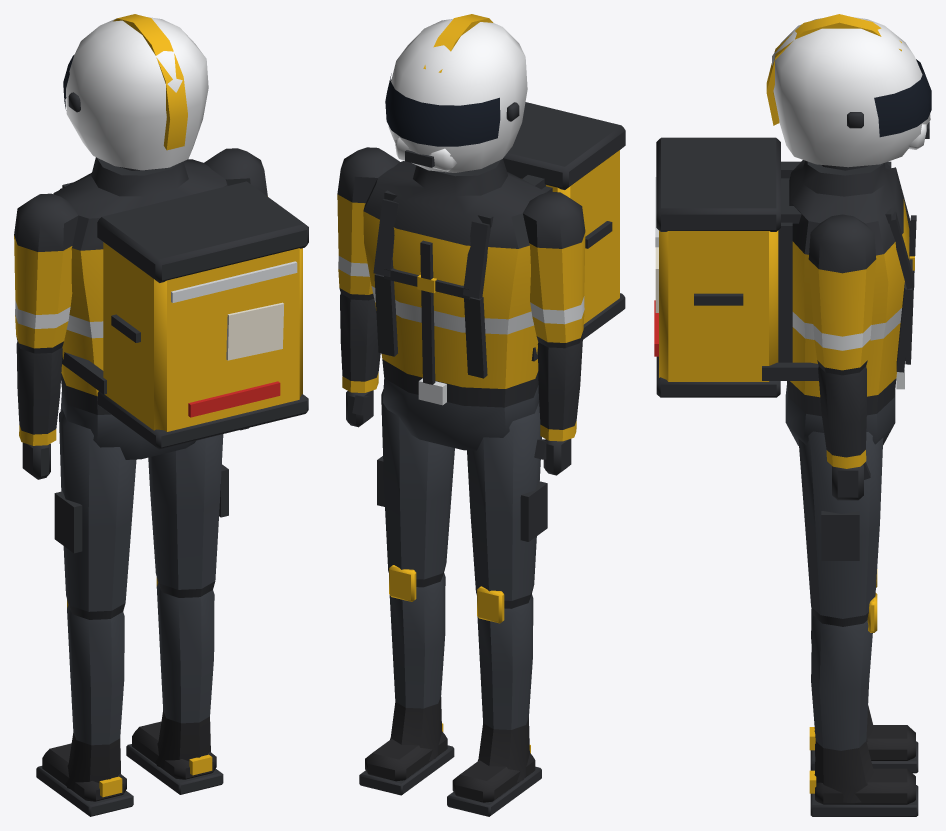
File: personagem.glb
3 renders of one model, left to right at view 1: azimuth 30°, elevation 25°; view 2: azimuth 150°, elevation 25°; view 3: azimuth 270°, elevation 25°, orthographic. The views are drawn at different scales.
Parts seen in each view (by area): view 1: Tronco, Cabeca, PernaE, CanelaD, CanelaE, PernaD, BracoE, AntebracoE, BracoD; view 2: Tronco, Cabeca, PernaE, CanelaD, CanelaE, PernaD, BracoE, BracoD, AntebracoE, AntebracoD; view 3: Tronco, Cabeca, CanelaD, PernaD, BracoD, AntebracoD, CanelaE.
Part boxes in pixels (box(x1,y1,x2,y2)): Tronco: box(53, 157, 308, 459); Cabeca: box(63, 14, 208, 170); PernaE: box(54, 409, 136, 619); CanelaD: box(126, 583, 223, 794); CanelaE: box(36, 605, 133, 816); PernaD: box(148, 434, 228, 597); BracoE: box(14, 193, 78, 353); AntebracoE: box(16, 341, 62, 479); BracoD: box(204, 148, 267, 196); Tronco: box(363, 102, 625, 450); Cabeca: box(385, 14, 527, 172); PernaE: box(467, 402, 547, 623); CanelaD: box(359, 573, 454, 795); CanelaE: box(447, 594, 541, 816); PernaD: box(377, 389, 454, 601); BracoE: box(523, 191, 585, 348); BracoD: box(337, 147, 399, 300); AntebracoE: box(534, 336, 582, 475); AntebracoD: box(340, 293, 380, 427); Tronco: box(654, 137, 916, 445); Cabeca: box(766, 14, 931, 170); CanelaD: box(809, 615, 918, 816); PernaD: box(798, 431, 883, 632); BracoD: box(808, 214, 876, 375); AntebracoD: box(818, 366, 870, 500); CanelaE: box(809, 609, 918, 773).
Size of the model in its own units: 0.604 by 1.8 by 0.591.
